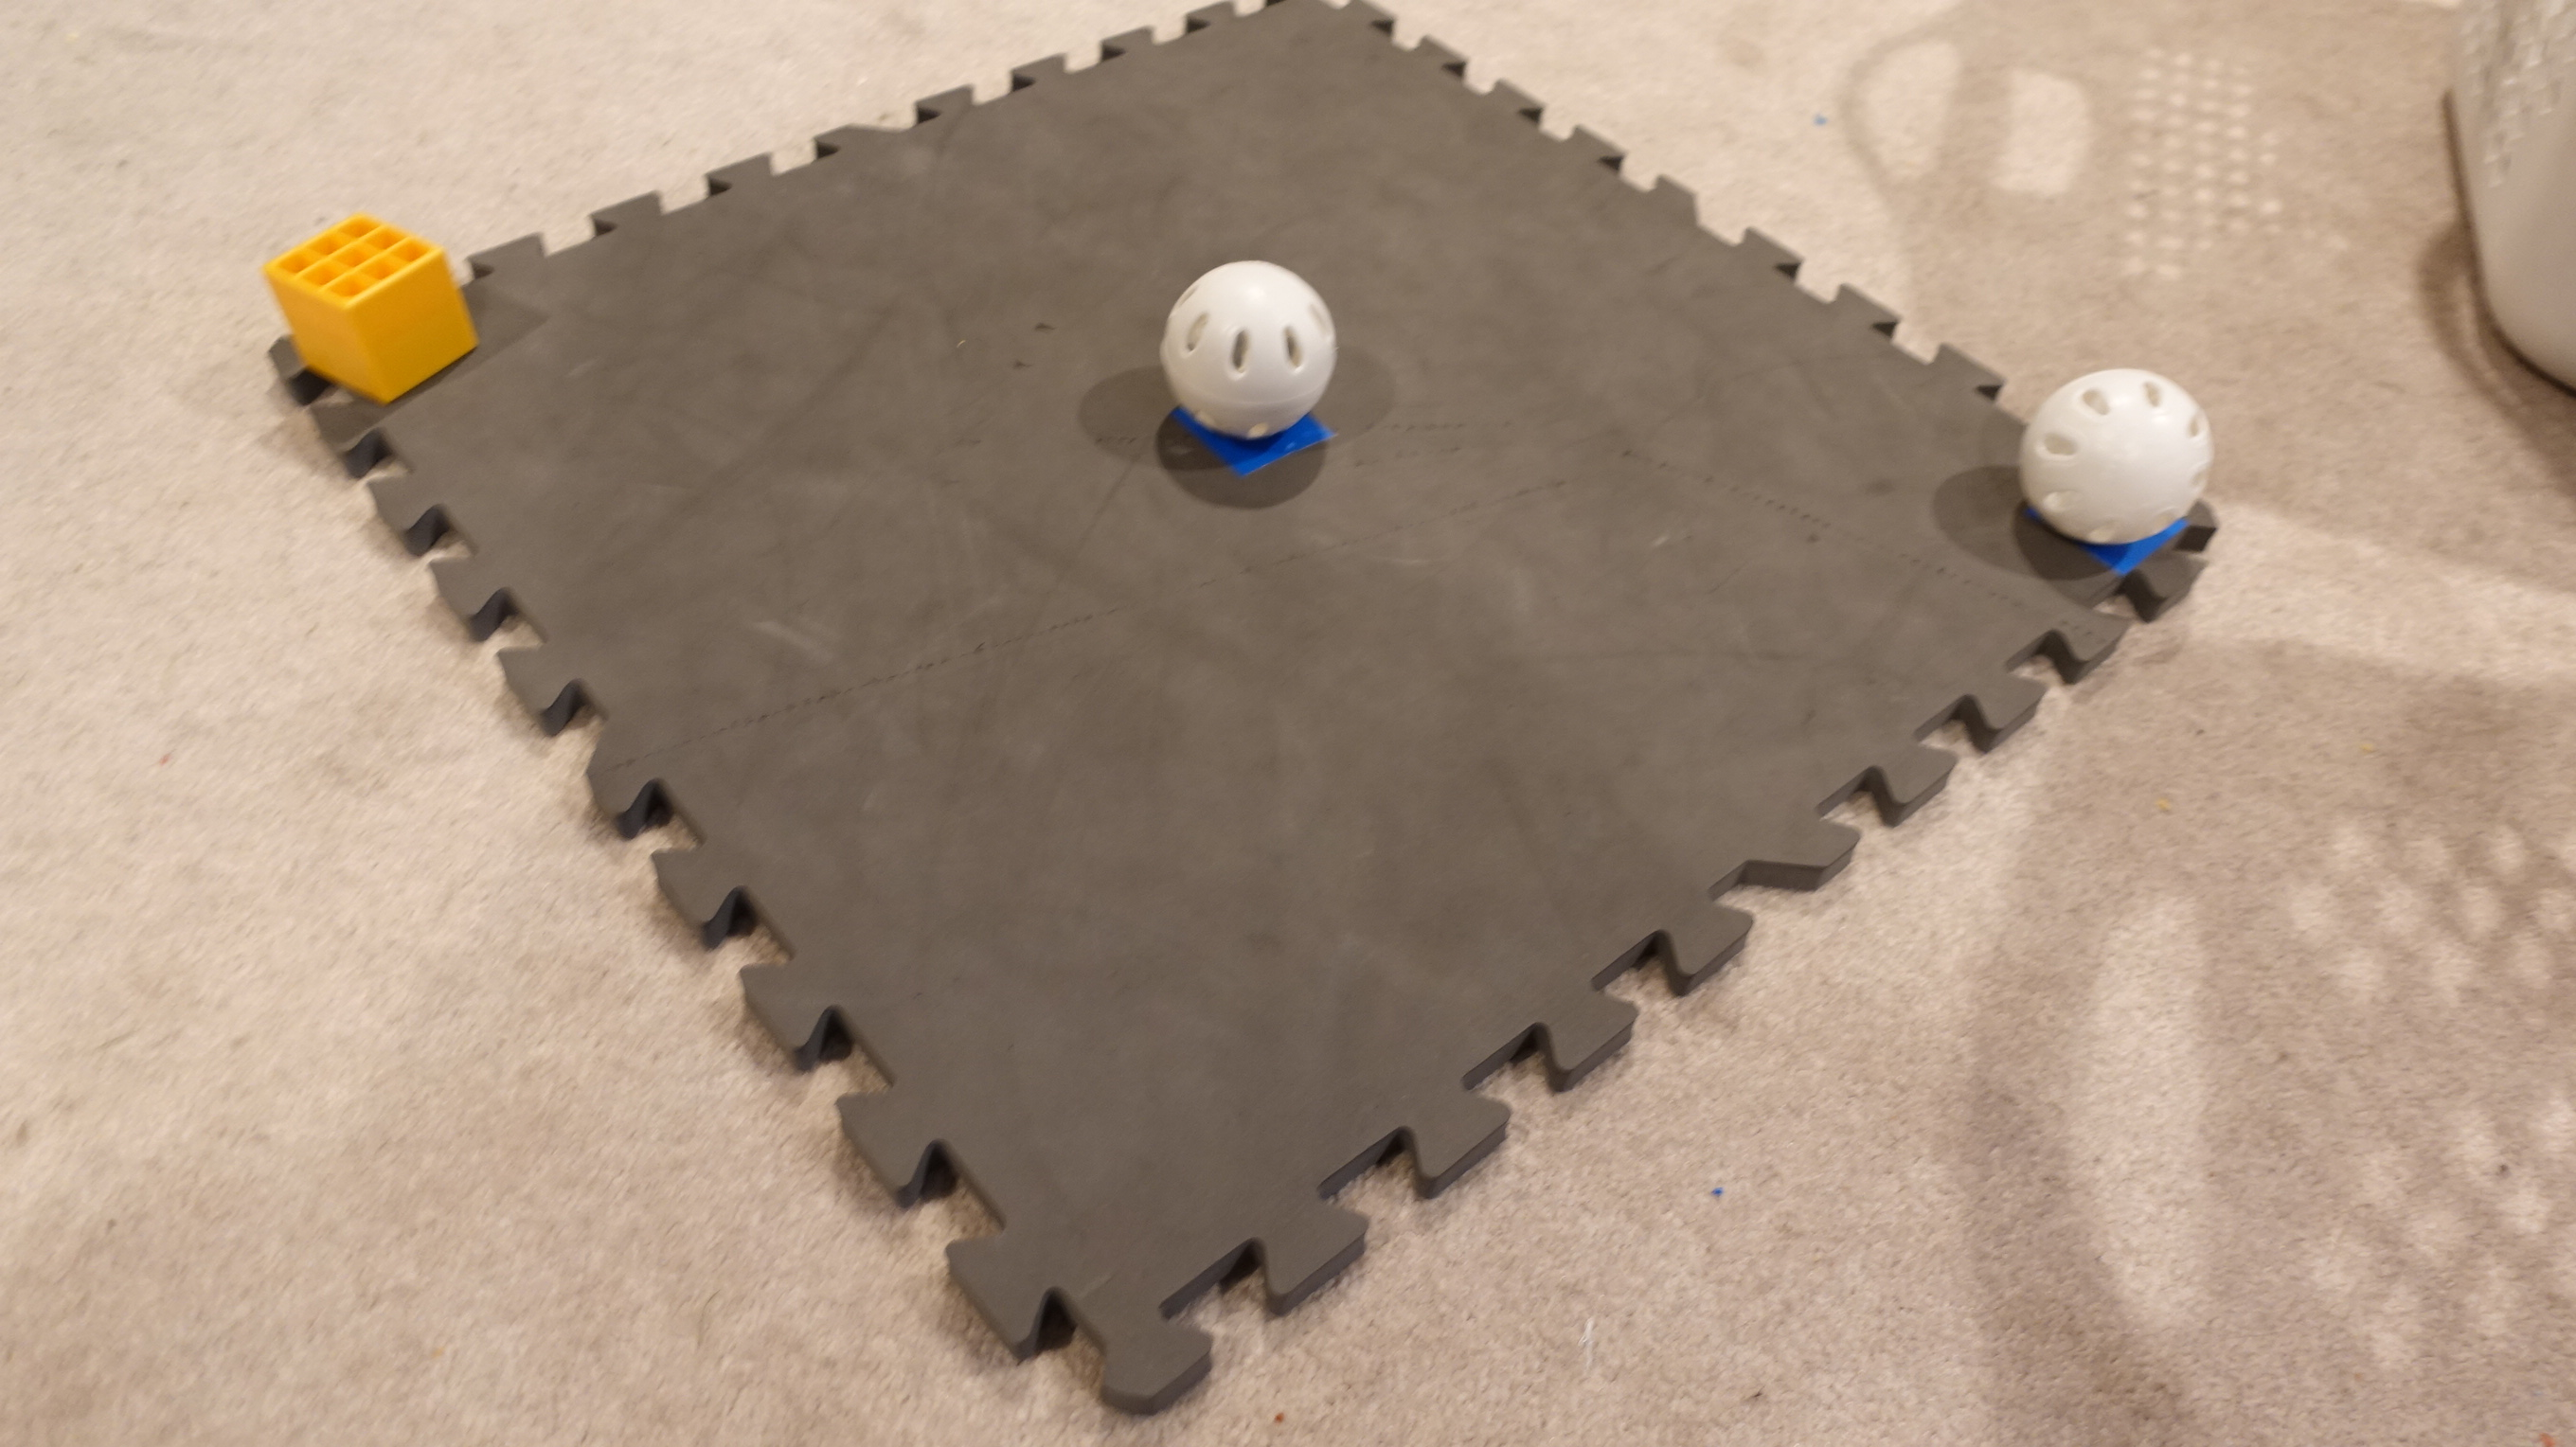gold: (246, 180, 488, 455)
silver: (1131, 212, 1361, 497), (1992, 350, 2245, 582)
